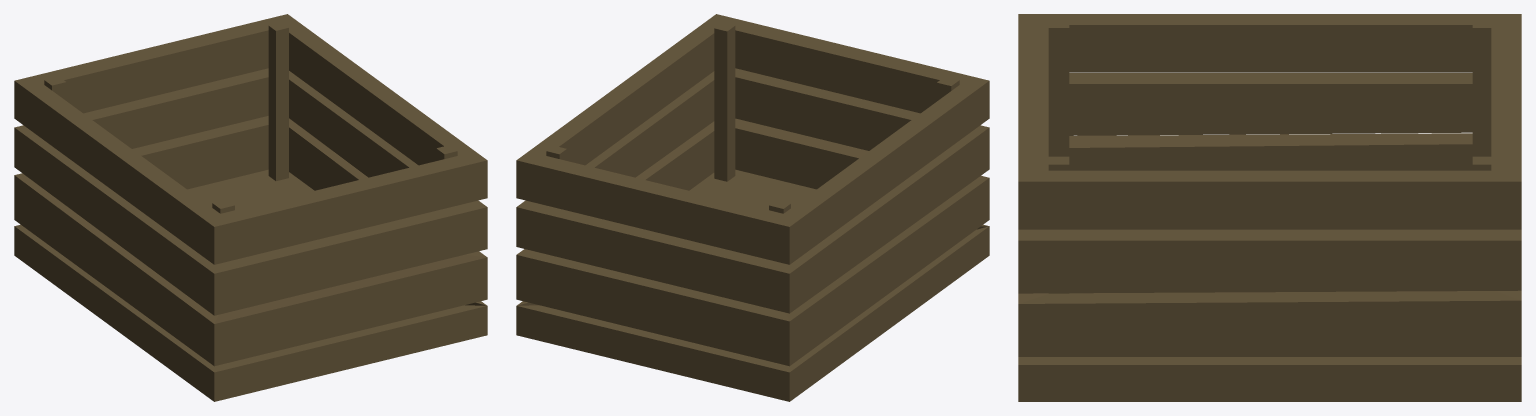
Rendered from Krat leeg.fbx.
3 views of the same model, side by side, from view 1: azimuth 30°, elevation 25°; view 2: azimuth 150°, elevation 25°; view 3: azimuth 270°, elevation 25° (orthographic). The views are drawn at different scales.
Parts seen in each view (by area): view 1: Cube; view 2: Cube; view 3: Cube.
Boxes of the visible parts, x1,y1,x2,y2 form: Cube: (14,14,487,401); Cube: (516,14,989,401); Cube: (1018,14,1521,401).
Size of the model in its own units: 200 by 126 by 253.
